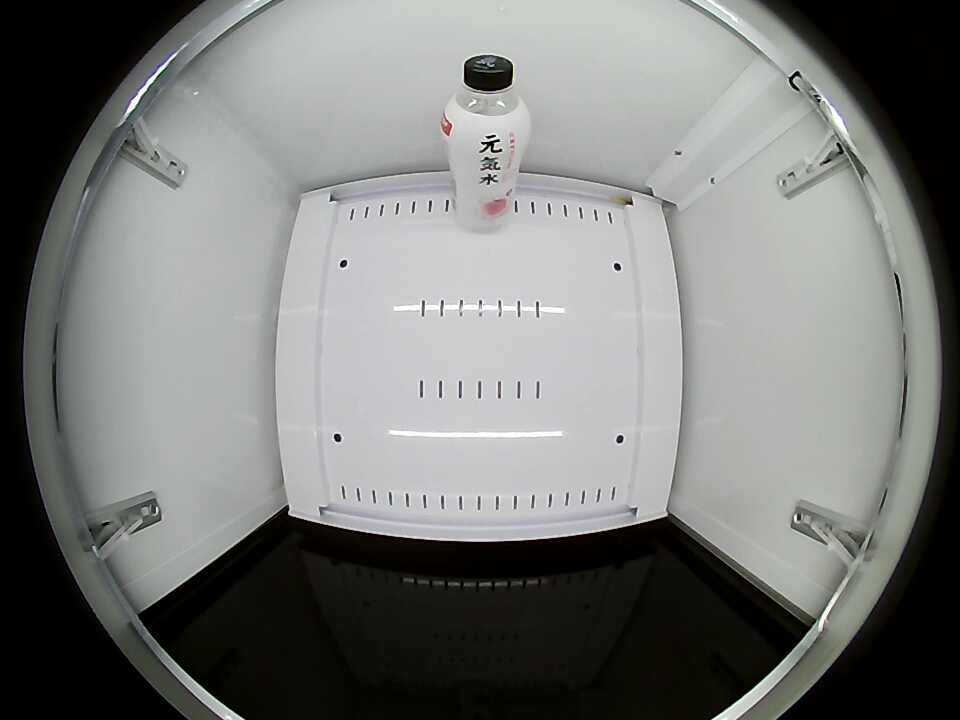yuanqishui: (441, 55, 531, 154)
